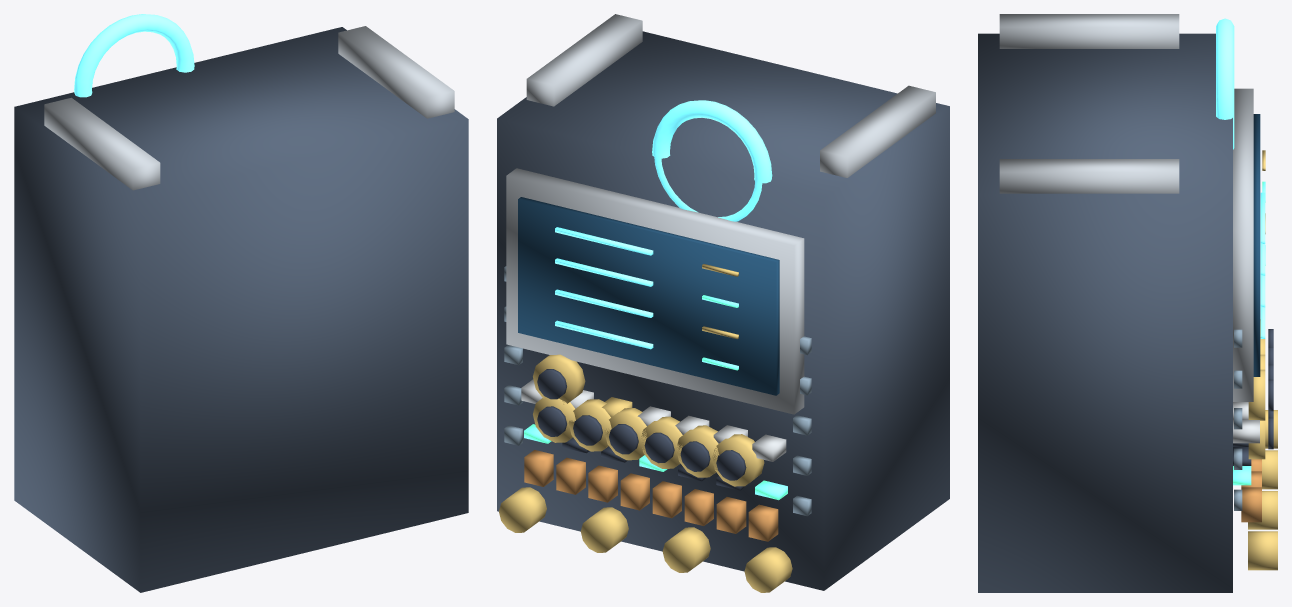
The model's file is L85_50_ThrusterForceAllocationComputer_Fitted.fbx.
3 renders of one model, left to right at view 1: azimuth 30°, elevation 25°; view 2: azimuth 150°, elevation 25°; view 3: azimuth 270°, elevation 25°, orthographic.
Parts seen in each view (by area): view 1: L85_ThrusterForceAllocationComputer_Static__tint1A2434, L85_ThrusterForceAllocationComputer_Static__tintA8B8C7, L85_ThrusterForceAllocationComputer_ANIM_THRUSTER_ALLOCATION; view 2: L85_ThrusterForceAllocationComputer_Static__tint1A2434, L85_ThrusterForceAllocationComputer_Static__tint071C3B, L85_ThrusterForceAllocationComputer_Static__tintA8B8C7, L85_ThrusterForceAllocationComputer_Static__tintF7B83D, L85_ThrusterForceAllocationComputer_Static__tintD16621, L85_ThrusterForceAllocationComputer_Static__tint111724, L85_ThrusterForceAllocationComputer_ANIM_THRUSTER_ALLOCATION, L85_ThrusterForceAllocationComputer_Static__tint2ED9FA, L85_ThrusterForceAllocationComputer_Static__tint527391, L85_ThrusterForceAllocationComputer_Static__tintCCD9E3, L85_ThrusterForceAllocationComputer_Static__tint24F09C; view 3: L85_ThrusterForceAllocationComputer_Static__tint1A2434, L85_ThrusterForceAllocationComputer_Static__tintA8B8C7, L85_ThrusterForceAllocationComputer_Static__tintF7B83D, L85_ThrusterForceAllocationComputer_Static__tint071C3B, L85_ThrusterForceAllocationComputer_ANIM_THRUSTER_ALLOCATION, L85_ThrusterForceAllocationComputer_Static__tintD16621, L85_ThrusterForceAllocationComputer_Static__tint111724, L85_ThrusterForceAllocationComputer_Static__tint527391, L85_ThrusterForceAllocationComputer_Static__tint2ED9FA, L85_ThrusterForceAllocationComputer_Static__tintCCD9E3, L85_ThrusterForceAllocationComputer_Static__tint24F09C.
Part boxes in pixels (box(x1,y1,x2,y2)): L85_ThrusterForceAllocationComputer_Static__tint1A2434: box(14, 27, 468, 592); L85_ThrusterForceAllocationComputer_Static__tintA8B8C7: box(44, 26, 454, 190); L85_ThrusterForceAllocationComputer_ANIM_THRUSTER_ALLOCATION: box(74, 14, 194, 97); L85_ThrusterForceAllocationComputer_Static__tint1A2434: box(497, 31, 949, 590); L85_ThrusterForceAllocationComputer_Static__tint071C3B: box(518, 197, 779, 395); L85_ThrusterForceAllocationComputer_Static__tintA8B8C7: box(506, 14, 935, 414); L85_ThrusterForceAllocationComputer_Static__tintF7B83D: box(499, 264, 792, 592); L85_ThrusterForceAllocationComputer_Static__tintD16621: box(524, 450, 778, 541); L85_ThrusterForceAllocationComputer_Static__tint111724: box(537, 369, 749, 490); L85_ThrusterForceAllocationComputer_ANIM_THRUSTER_ALLOCATION: box(652, 100, 772, 221); L85_ThrusterForceAllocationComputer_Static__tint2ED9FA: box(555, 227, 653, 349); L85_ThrusterForceAllocationComputer_Static__tint527391: box(504, 266, 811, 516); L85_ThrusterForceAllocationComputer_Static__tintCCD9E3: box(521, 379, 786, 461); L85_ThrusterForceAllocationComputer_Static__tint24F09C: box(524, 295, 787, 500); L85_ThrusterForceAllocationComputer_Static__tint1A2434: box(978, 33, 1232, 592); L85_ThrusterForceAllocationComputer_Static__tintA8B8C7: box(999, 14, 1253, 401); L85_ThrusterForceAllocationComputer_Static__tintF7B83D: box(1248, 150, 1277, 570); L85_ThrusterForceAllocationComputer_Static__tint071C3B: box(1253, 114, 1260, 376); L85_ThrusterForceAllocationComputer_ANIM_THRUSTER_ALLOCATION: box(1216, 18, 1234, 149); L85_ThrusterForceAllocationComputer_Static__tintD16621: box(1241, 459, 1261, 522); L85_ThrusterForceAllocationComputer_Static__tint111724: box(1233, 329, 1273, 465); L85_ThrusterForceAllocationComputer_Static__tint527391: box(1234, 329, 1242, 510); L85_ThrusterForceAllocationComputer_Static__tint2ED9FA: box(1260, 192, 1265, 338); L85_ThrusterForceAllocationComputer_Static__tintCCD9E3: box(1233, 402, 1259, 443); L85_ThrusterForceAllocationComputer_Static__tint24F09C: box(1233, 181, 1265, 485).
Bounding box in the file's own units: 9.2 × 12.32 × 7.22.
